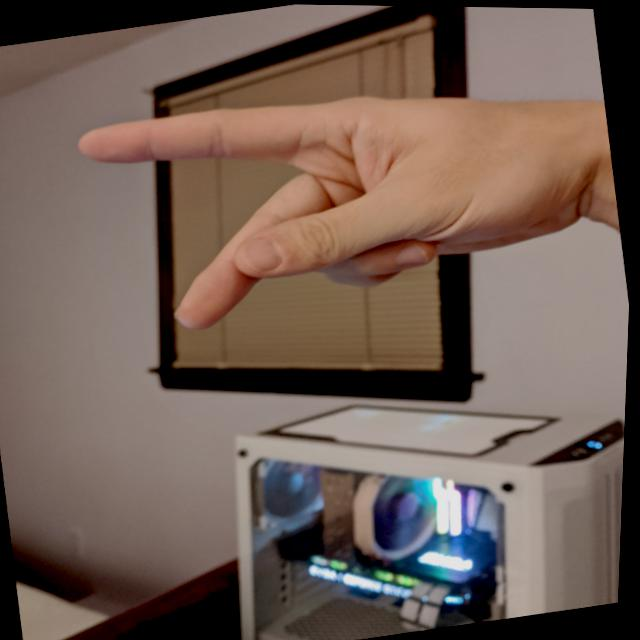P: (65, 41, 628, 360)
